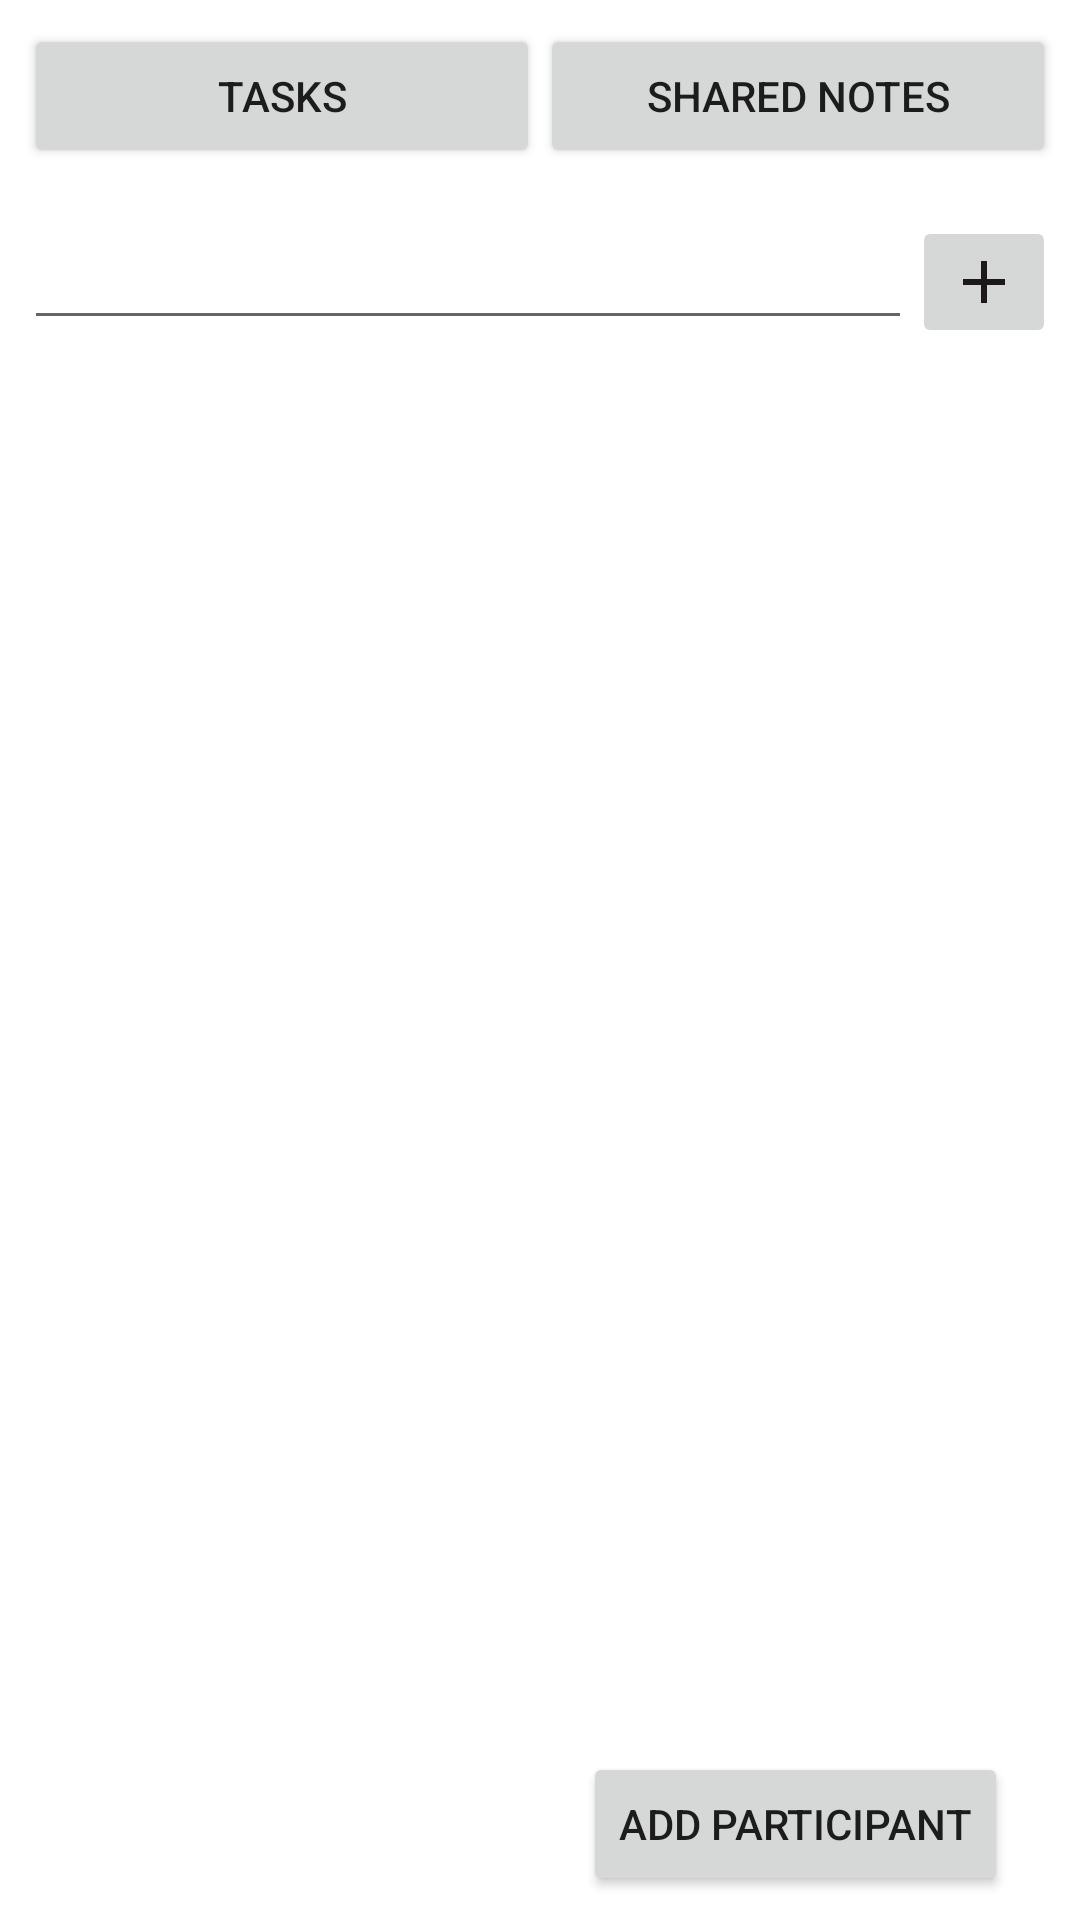

Screen size 1080*1920. Icon name, then its center in pixels as (x,y):
add: (984,282)
